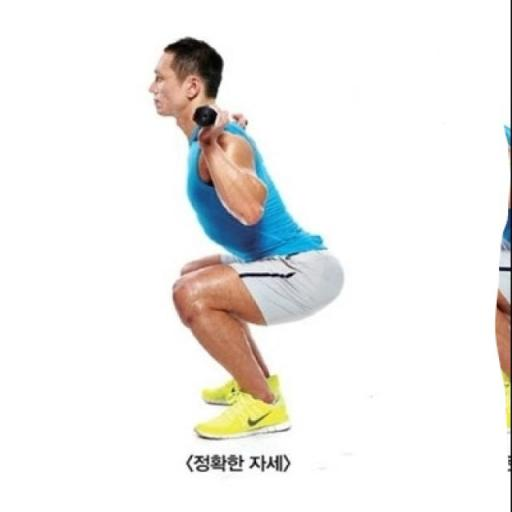Normal_OverheadPress: (10, 24, 416, 492)
